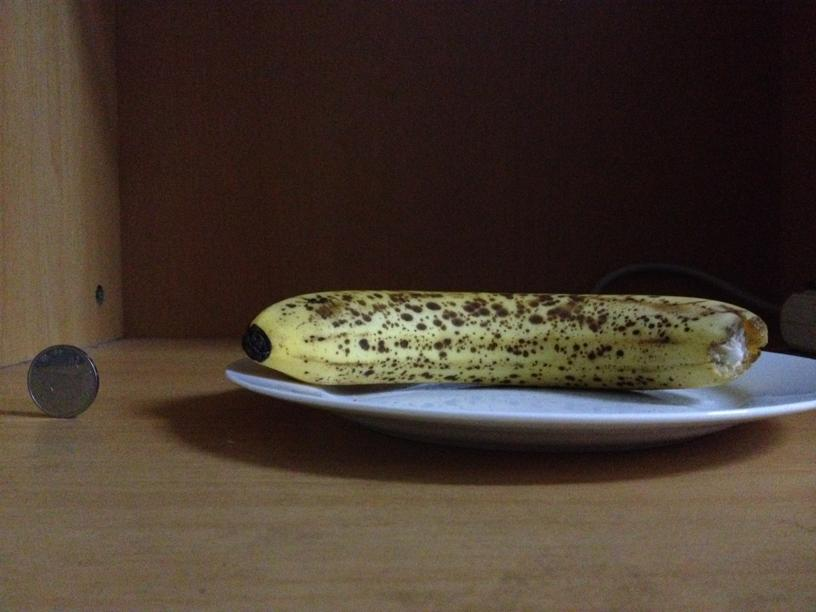banana: (252, 287, 754, 390)
coin: (24, 342, 98, 418)
